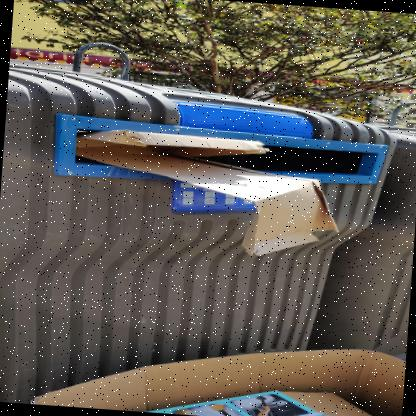Corrugated carton: (30, 349, 404, 416), (144, 390, 373, 416)
Pizza box: (76, 130, 339, 257)
